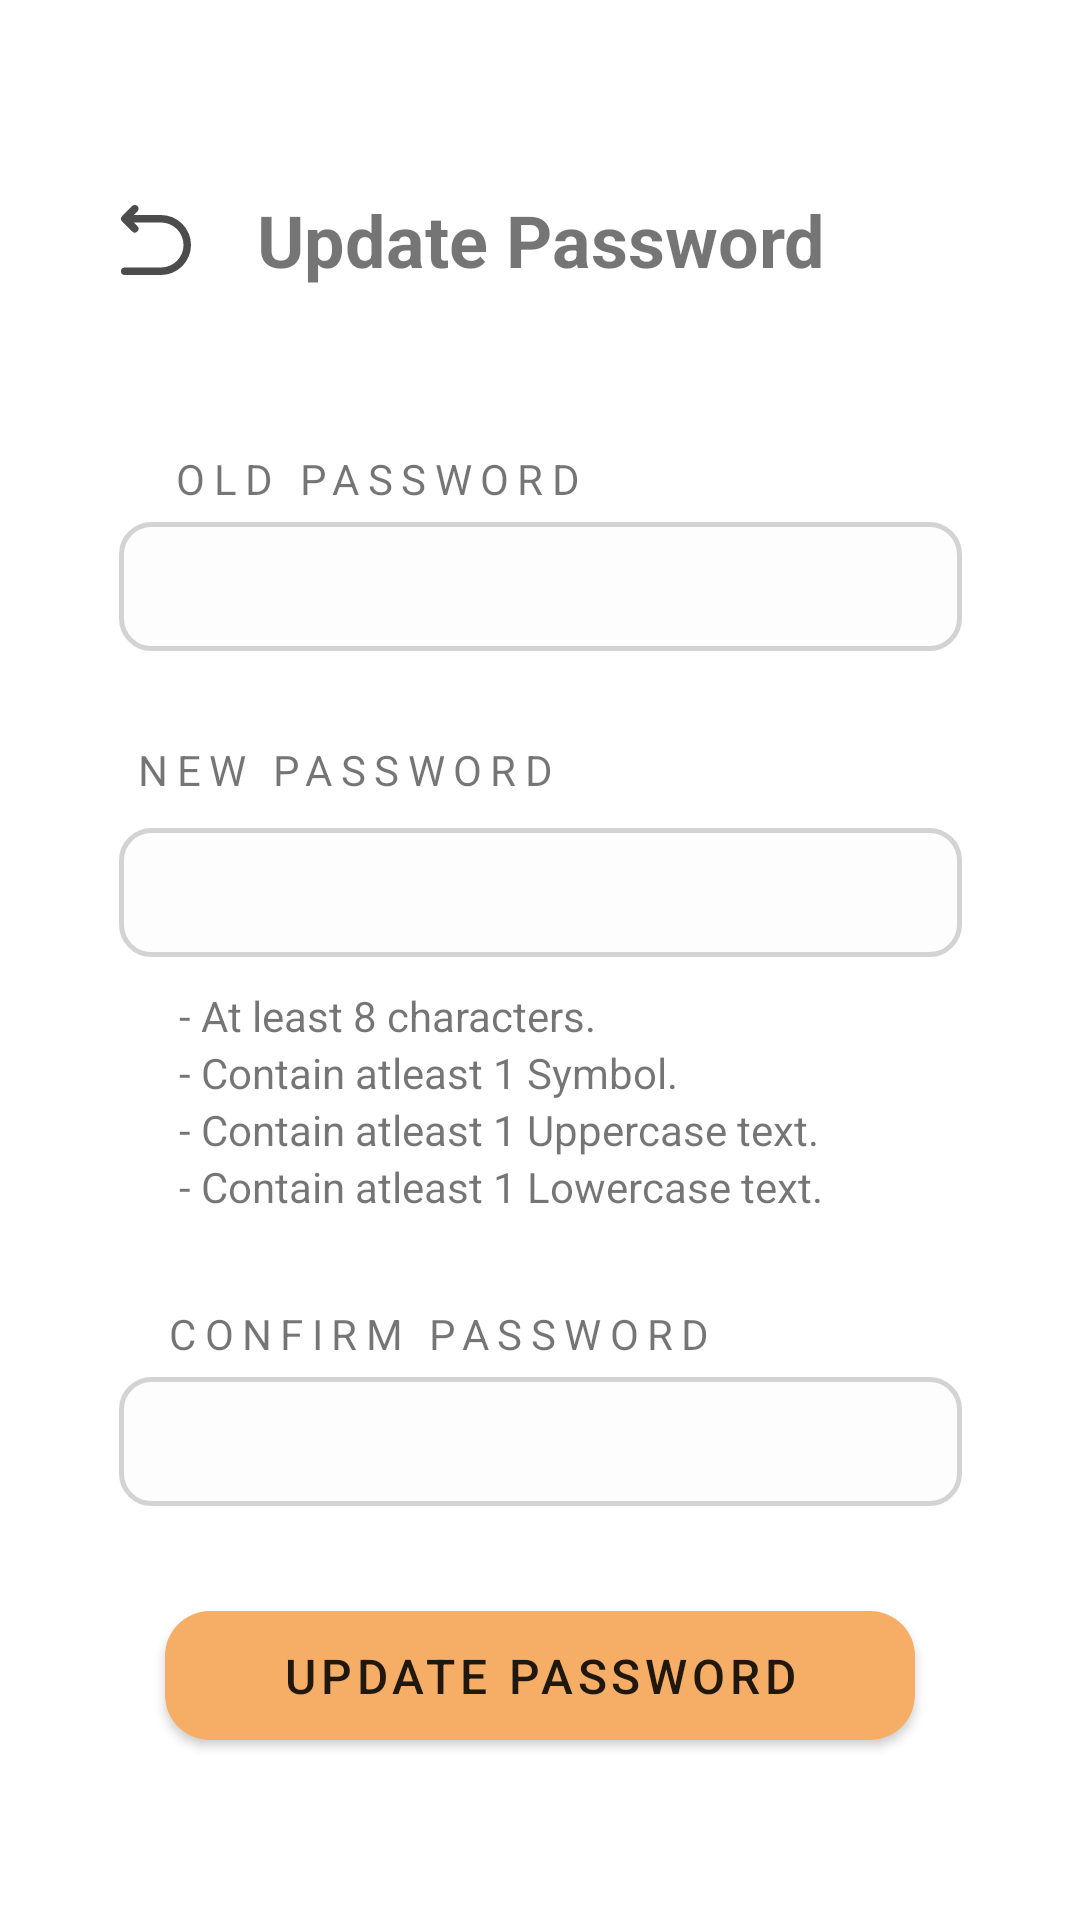

Icon click points for this 1080×1920 phone screenshot, format [x,y]:
back arrow: [155,240]
